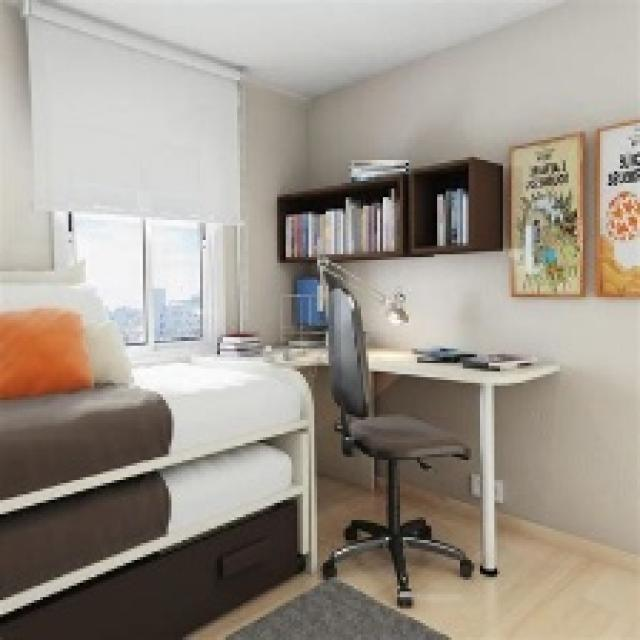Bed: (0, 260, 317, 637)
